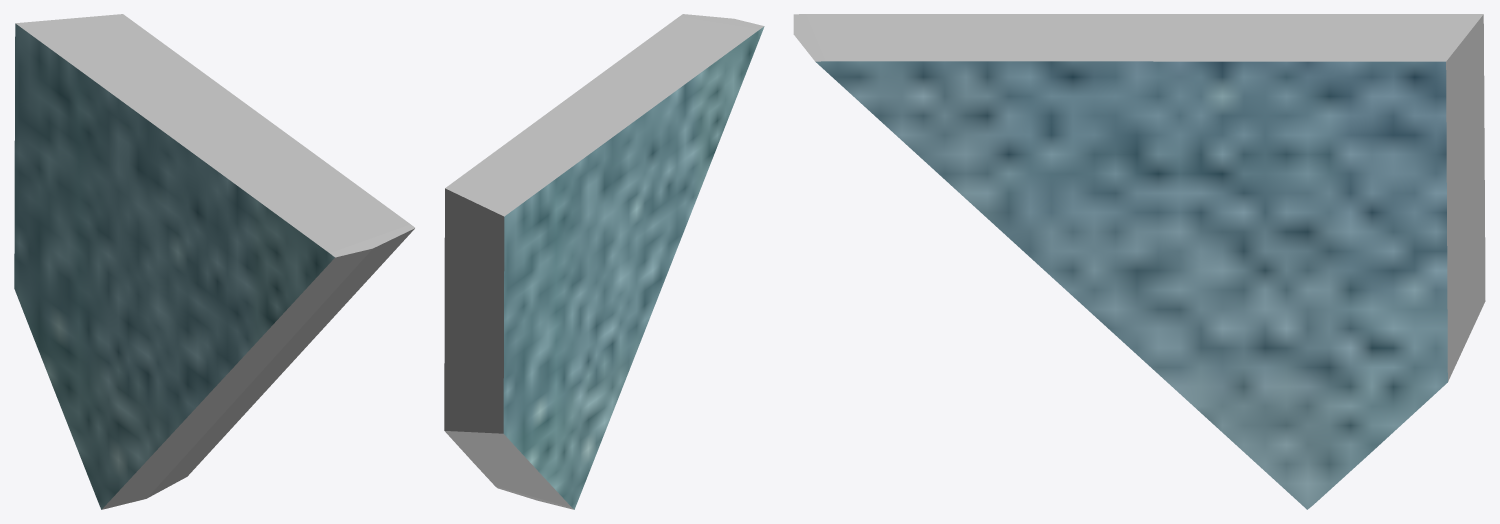
3 renders of one model, left to right at view 1: azimuth 30°, elevation 25°; view 2: azimuth 150°, elevation 25°; view 3: azimuth 270°, elevation 25°, orthographic. The views are drawn at different scales.
Visible parts, largest first — view 1: Cube_cell.012_Mesh.012; view 2: Cube_cell.012_Mesh.012; view 3: Cube_cell.012_Mesh.012.
Part boxes in pixels (box(x1,y1,x2,y2)): Cube_cell.012_Mesh.012: box(14, 14, 414, 509); Cube_cell.012_Mesh.012: box(444, 14, 764, 509); Cube_cell.012_Mesh.012: box(793, 14, 1485, 509).
Size of the model in its own units: 0.0832 by 0.3727 by 0.5114.
